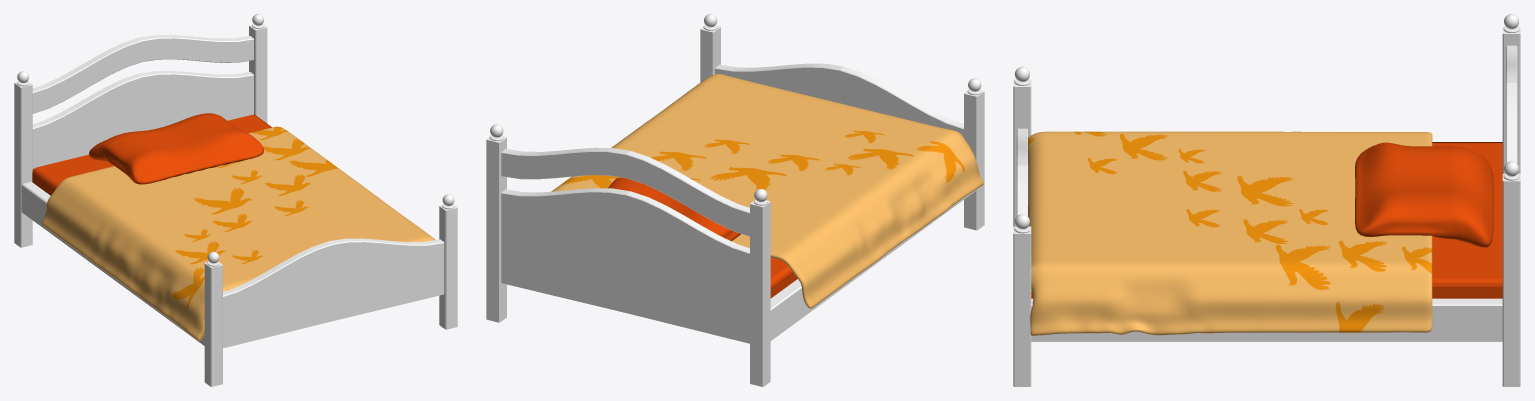
The model's file is bed.FBX.
3 renders of one model, left to right at view 1: azimuth 30°, elevation 25°; view 2: azimuth 150°, elevation 25°; view 3: azimuth 270°, elevation 25°, orthographic. The views are drawn at different scales.
Visible parts, largest first — view 1: bedspread, footBoard, Rectangle005, pillow, Rectangle008, topLeftPost, bottomLeftPost, bottomRightPost, mattress, topRightPost, leftPlank; view 2: bedspread, Rectangle005, Rectangle008, footBoard, topLeftPost, topRightPost, bottomLeftPost, leftPlank, pillow, bottomRightPost, mattress; view 3: bedspread, pillow, rightPlank, mattress, topRightPost, bottomRightPost, Rectangle008, topLeftPost, bottomLeftPost, footBoard.
Boxes of the visible parts, x1=… form: bedspread: x1=42, y1=126, x2=435, y2=341; footBoard: x1=223, y1=238, x2=444, y2=348; Rectangle005: x1=32, y1=70, x2=253, y2=169; pillow: x1=89, y1=113, x2=263, y2=184; Rectangle008: x1=32, y1=34, x2=253, y2=113; topLeftPost: x1=14, y1=82, x2=32, y2=247; bottomLeftPost: x1=204, y1=262, x2=222, y2=386; bottomRightPost: x1=439, y1=205, x2=457, y2=329; mattress: x1=32, y1=114, x2=271, y2=195; topRightPost: x1=249, y1=24, x2=267, y2=123; leftPlank: x1=21, y1=181, x2=204, y2=345; bedspread: x1=551, y1=74, x2=983, y2=308; Rectangle005: x1=501, y1=188, x2=749, y2=343; Rectangle008: x1=501, y1=147, x2=749, y2=236; footBoard: x1=715, y1=63, x2=963, y2=136; topLeftPost: x1=750, y1=201, x2=770, y2=386; topRightPost: x1=486, y1=136, x2=506, y2=322; bottomLeftPost: x1=964, y1=90, x2=984, y2=230; leftPlank: x1=770, y1=190, x2=976, y2=340; pillow: x1=608, y1=177, x2=740, y2=241; bottomRightPost: x1=700, y1=26, x2=720, y2=82; mattress: x1=770, y1=257, x2=797, y2=298; bedspread: x1=1028, y1=131, x2=1432, y2=335; pillow: x1=1355, y1=142, x2=1493, y2=247; rightPlank: x1=1031, y1=298, x2=1502, y2=341; mattress: x1=1031, y1=142, x2=1502, y2=298; topRightPost: x1=1502, y1=173, x2=1520, y2=386; bottomRightPost: x1=1013, y1=226, x2=1031, y2=386; Rectangle008: x1=1506, y1=45, x2=1517, y2=163; topLeftPost: x1=1502, y1=26, x2=1520, y2=173; bottomLeftPost: x1=1013, y1=79, x2=1031, y2=226; footBoard: x1=1016, y1=128, x2=1028, y2=216.
Size of the model in its own units: 75.18 by 47.99 by 97.35.
3 materials, 1 textured.
